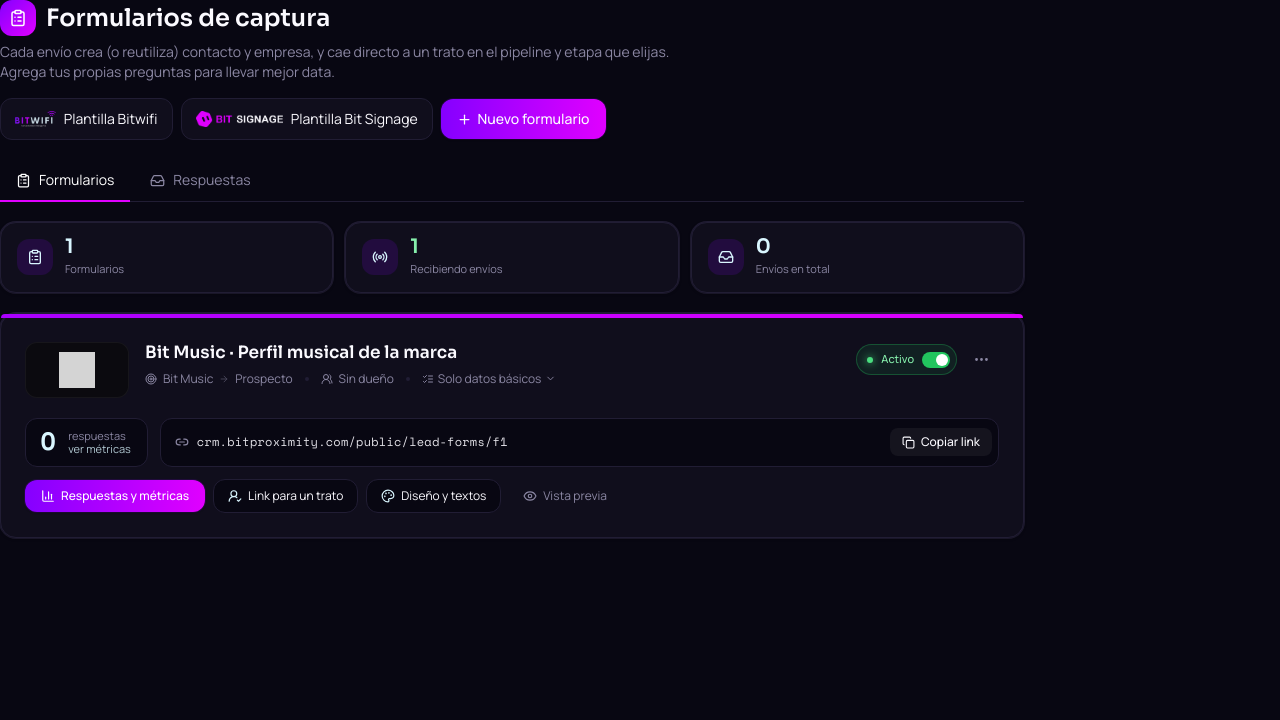
Scenario: Pantalla de formularios › la vista previa usa el mismo diseño de marca que ve el cliente
Expected: the heading "Bit Music · Perfil musical de la marca" is shown, [145,342,457,362]
Click the button "Vista previa" at (565, 496), box [509,480,621,512]
(page scrolled)
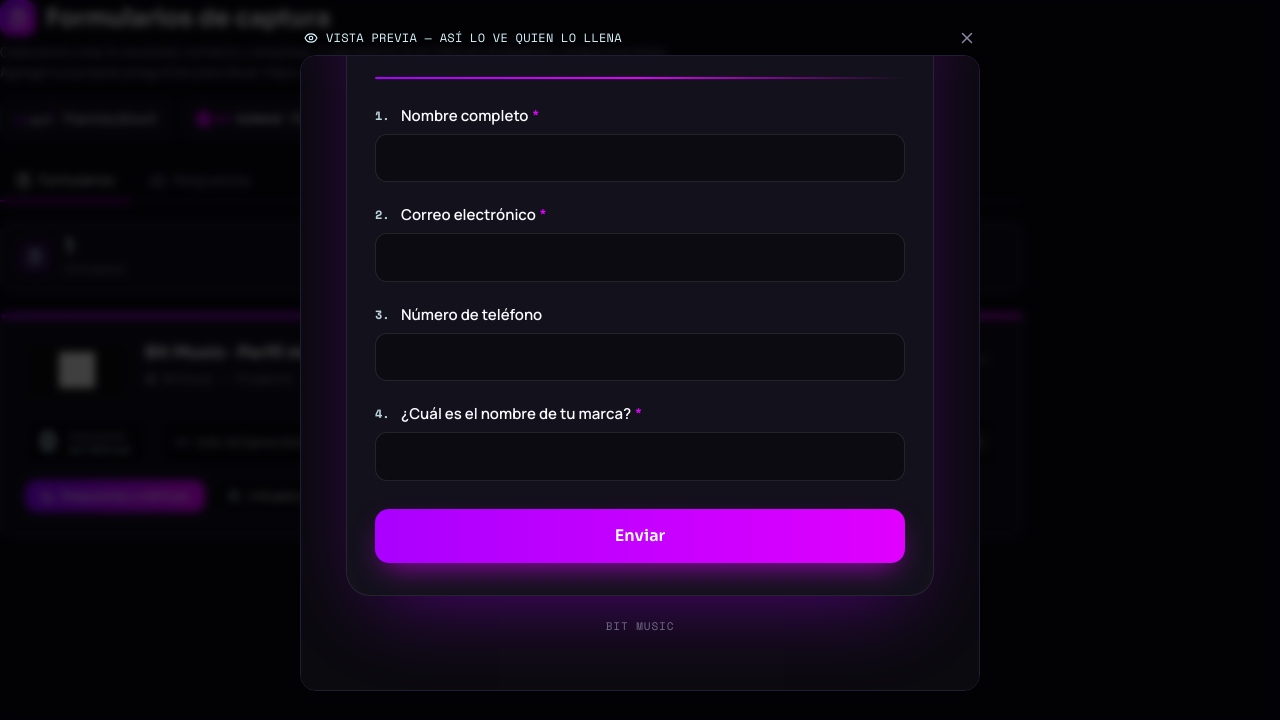
Click the button "Enviar" at (640, 536), box [375,509,905,563]
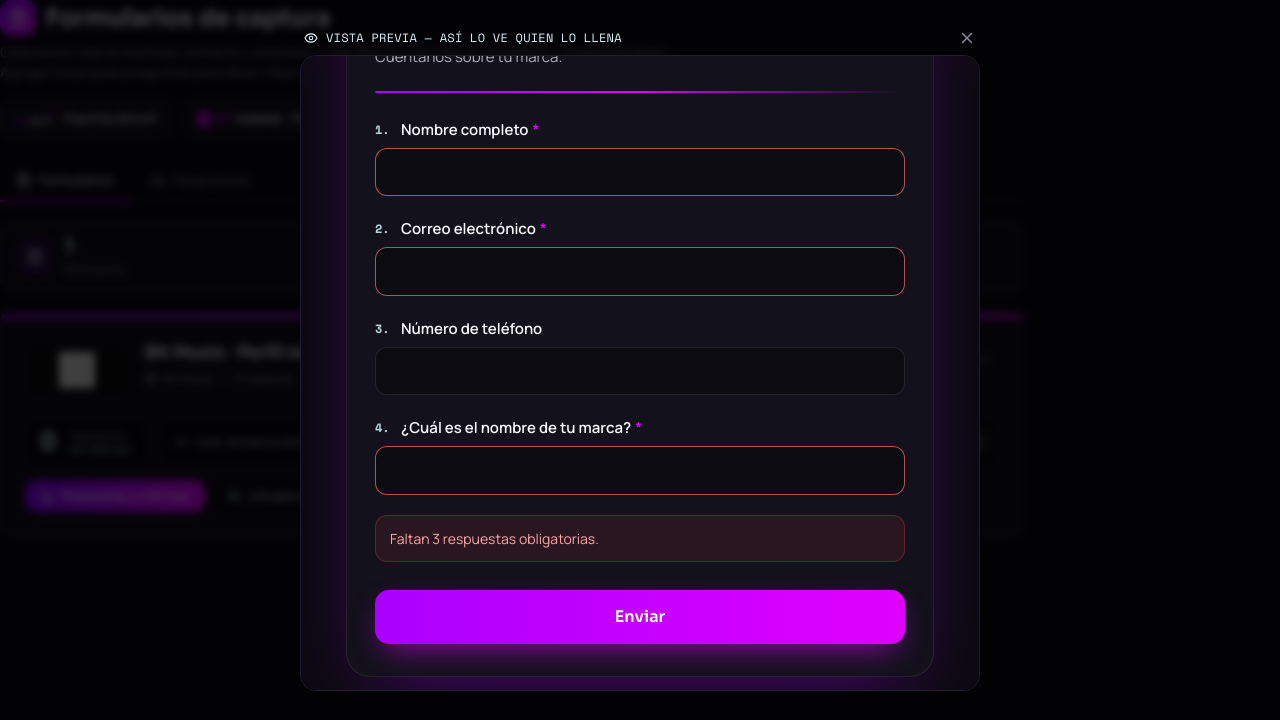
Expected: the message reads "Faltan 3 respuestas obligatorias.", [390,529,599,548]
